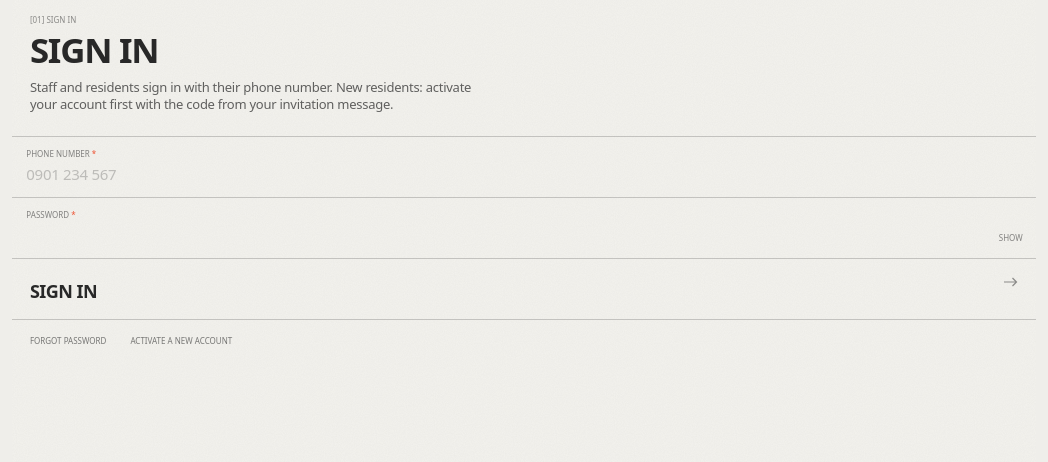
Test case: SignIn › should show a locked account with its countdown
The width and height of the screenshot is (1048, 462).
Type "0901000002" into the field labelled "Phone number *". click: (524, 178)
box: [12,159,1036,198]
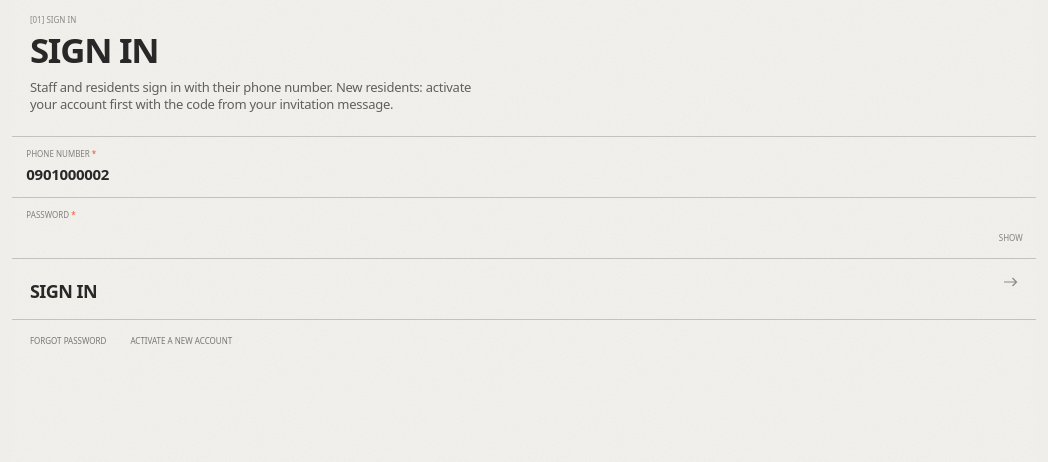
Type "wrong-password" into the password field labelled "Password *". click: (505, 239)
box: [12,220,999,259]
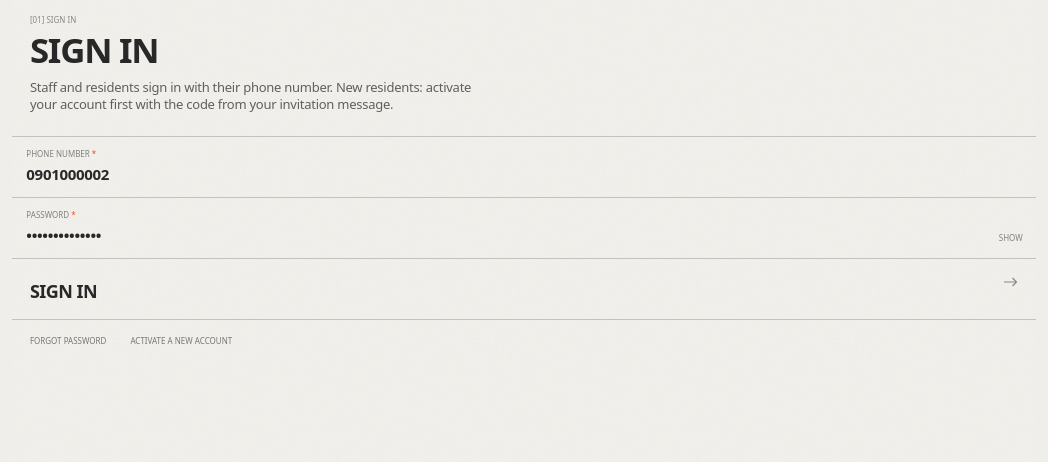
Click the button "Sign in Sign in". click: click(524, 289)
box: [12,259,1036,320]
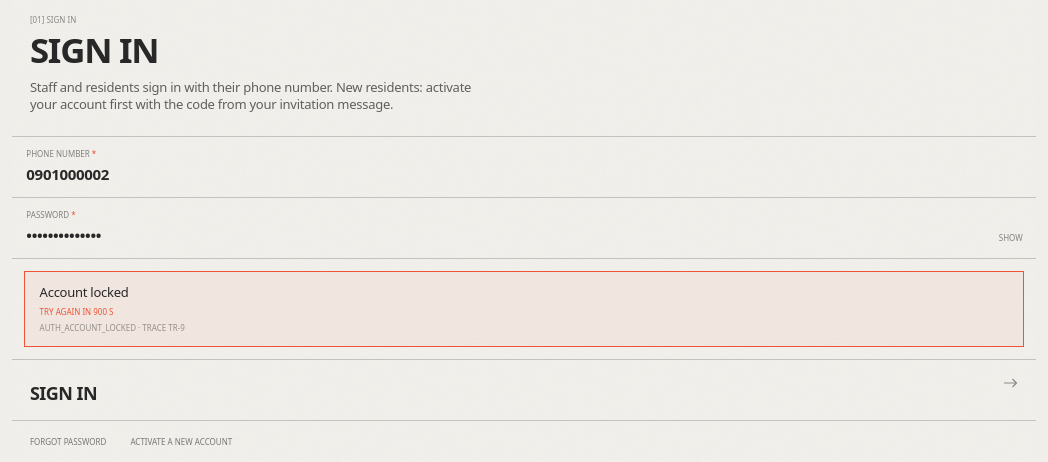
Now the text "Account locked" is shown, box [40,283,128,301]
Now the text "Try again in 900 s" is shown, box [40,306,114,317]
Now the text "AUTH_ACCOUNT_LOCKED · trace tr-9" is shown, box [40,322,185,334]
